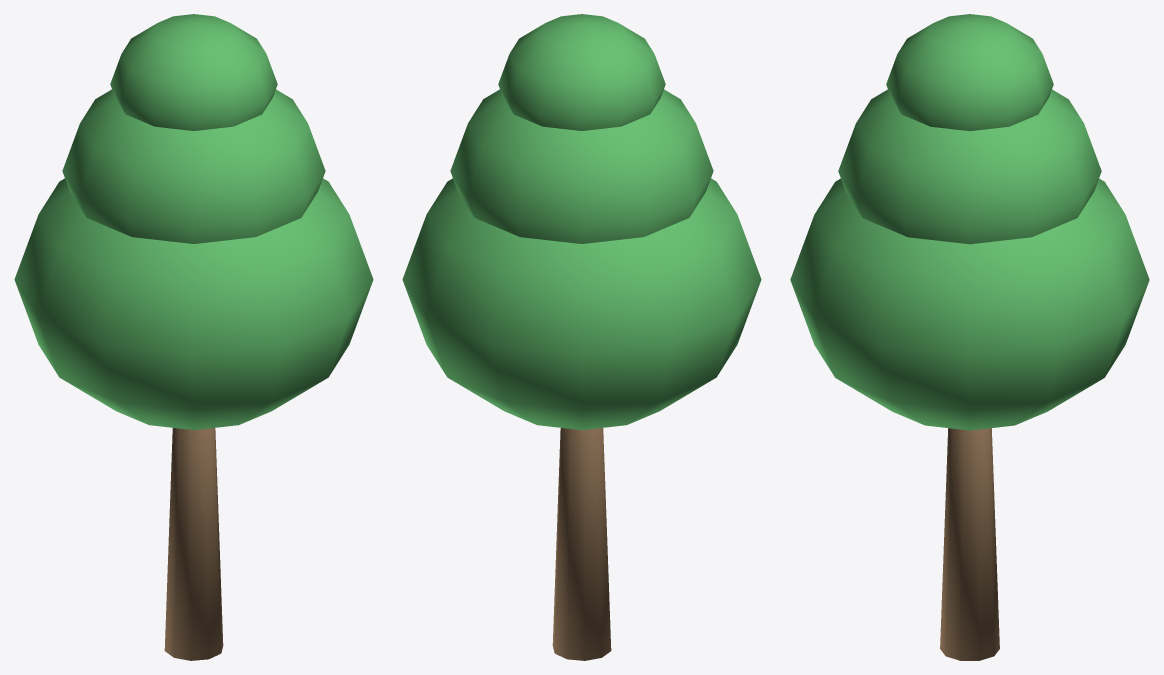
Rendered from tree_lush.glb.
The picture shows the model from 3 angles, left to right: view 1: azimuth 30°, elevation 25°; view 2: azimuth 150°, elevation 25°; view 3: azimuth 270°, elevation 25°; orthographic projection.
Visible parts, largest first — view 1: TreeLush; view 2: TreeLush; view 3: TreeLush.
Boxes of the visible parts, box(x1,y1,x2,y2) form: TreeLush: box(14, 14, 373, 660); TreeLush: box(402, 14, 761, 660); TreeLush: box(790, 14, 1149, 660).
Bounding box in the file's own units: 3 × 5.76 × 3.
